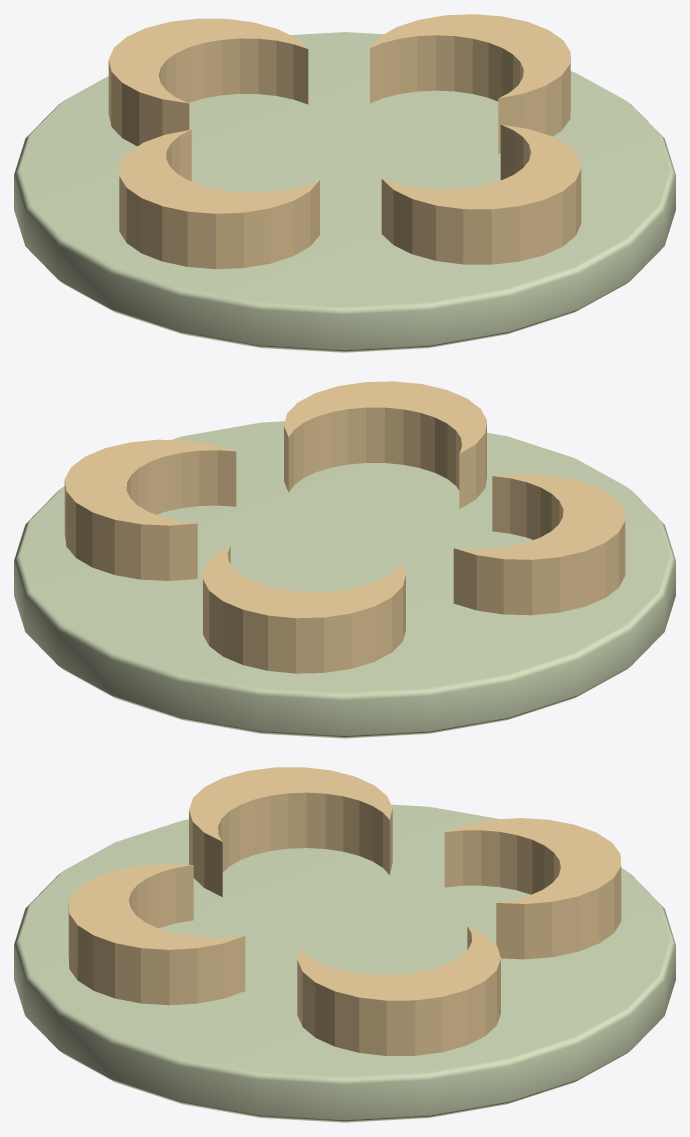
File: Moon_Cookies.fbx
3 views of the same model, one above another, from view 1: azimuth 30°, elevation 25°; view 2: azimuth 150°, elevation 25°; view 3: azimuth 270°, elevation 25° (orthographic).
Parts seen in each view (by area): view 1: Moon_Cookies_Mesh; view 2: Moon_Cookies_Mesh; view 3: Moon_Cookies_Mesh.
Boxes of the visible parts, x1=… form: Moon_Cookies_Mesh: x1=14, y1=14, x2=675, y2=352; Moon_Cookies_Mesh: x1=14, y1=381, x2=675, y2=738; Moon_Cookies_Mesh: x1=14, y1=767, x2=675, y2=1122.
Size of the model in its own units: 0.13 by 0.022 by 0.13.
